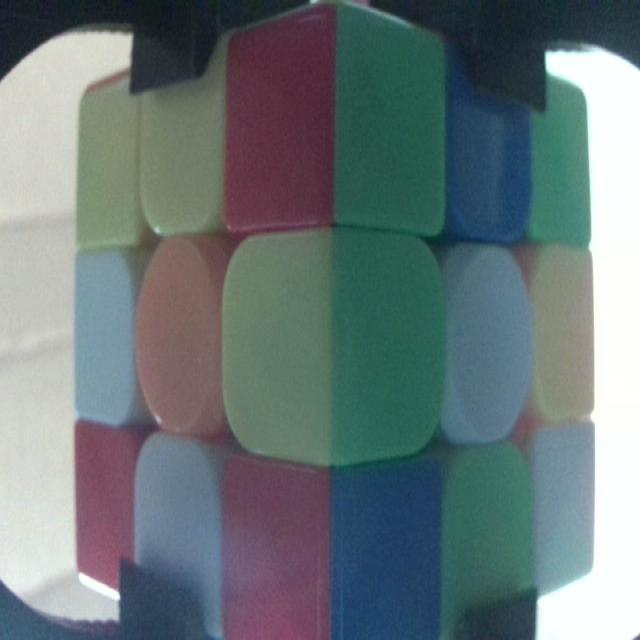b: (332, 468, 443, 640), (444, 31, 534, 235)
g: (340, 6, 448, 230), (335, 233, 438, 457), (446, 445, 536, 640), (532, 73, 593, 250)
r: (226, 8, 336, 222), (223, 450, 329, 640), (75, 429, 131, 591)
w: (443, 242, 532, 438), (135, 438, 222, 620), (75, 255, 140, 422), (535, 427, 601, 588)
y: (223, 233, 333, 452), (144, 36, 222, 229), (529, 248, 596, 418), (75, 76, 140, 249)
